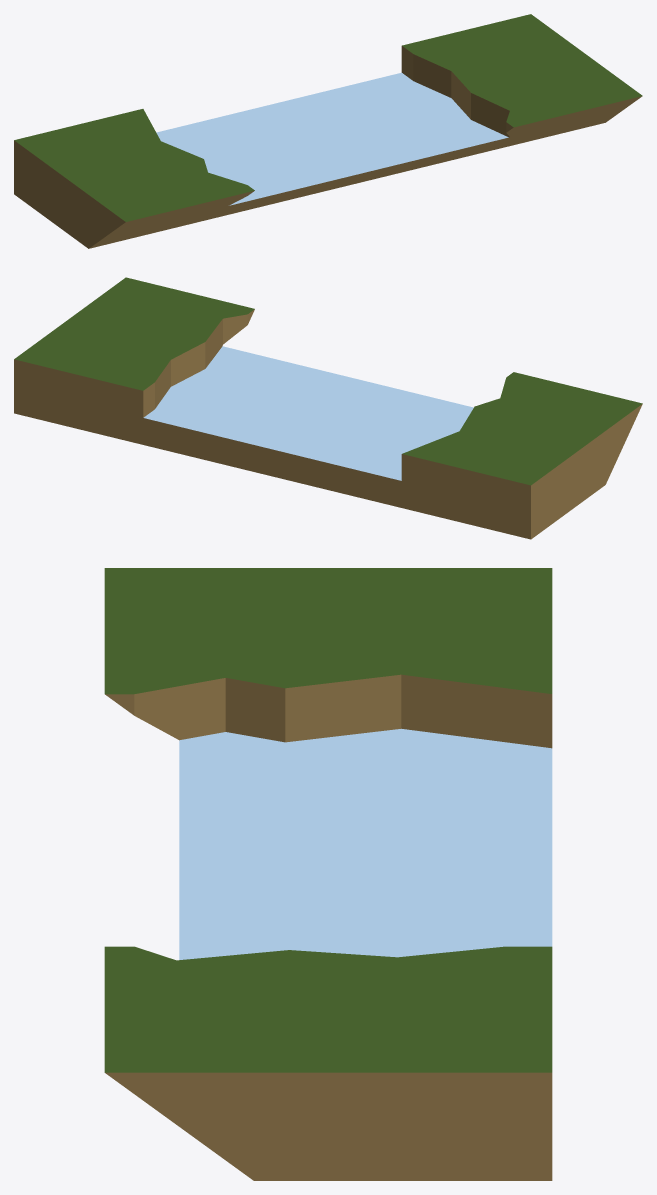
Rendered from Terrain_Modular_Tiles_Grass_Dirt_Cliff_Edge_River_Outer_01.fbx.
The picture shows the model from 3 angles, top to bottom: view 1: azimuth 30°, elevation 25°; view 2: azimuth 150°, elevation 25°; view 3: azimuth 270°, elevation 25°; orthographic projection. The views are drawn at different scales.
Parts seen in each view (by area): view 1: Terrain_Modular_Tiles_Grass_Dirt_Cliff_Edge_River_Outer_01; view 2: Terrain_Modular_Tiles_Grass_Dirt_Cliff_Edge_River_Outer_01; view 3: Terrain_Modular_Tiles_Grass_Dirt_Cliff_Edge_River_Outer_01.
Boxes of the visible parts, x1=… form: Terrain_Modular_Tiles_Grass_Dirt_Cliff_Edge_River_Outer_01: x1=14, y1=14, x2=642, y2=248; Terrain_Modular_Tiles_Grass_Dirt_Cliff_Edge_River_Outer_01: x1=14, y1=277, x2=642, y2=539; Terrain_Modular_Tiles_Grass_Dirt_Cliff_Edge_River_Outer_01: x1=104, y1=568, x2=552, y2=1180.
Size of the model in its own units: 118 by 11.81 by 44.29.
